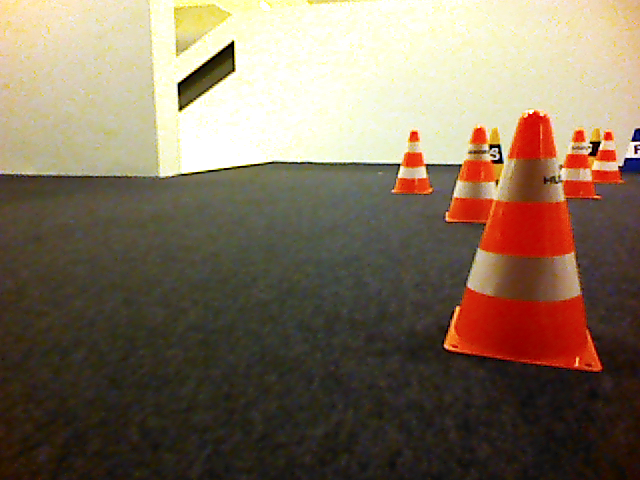bluecone: (622, 126, 640, 172)
orangeconesmall: (442, 108, 605, 375), (444, 124, 495, 223), (390, 129, 433, 196), (562, 129, 601, 199), (591, 131, 625, 185)
